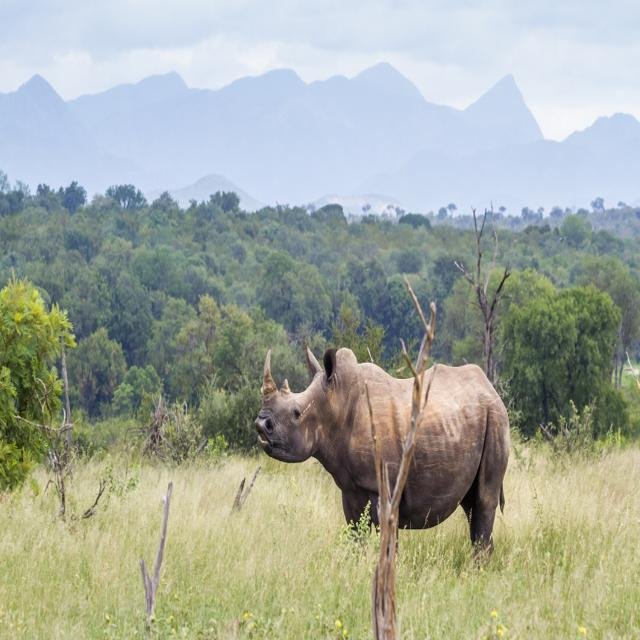rhino: (230, 296, 545, 590)
